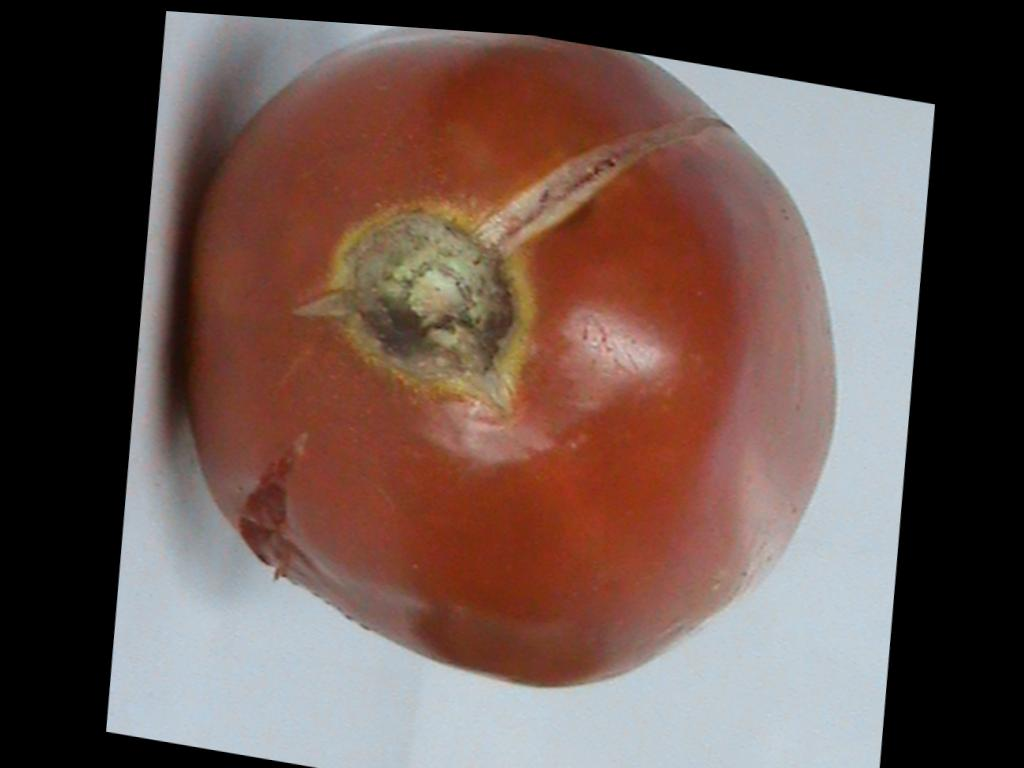bruise_discoloration: (416, 583, 597, 689)
surface_damage: (479, 112, 732, 253), (240, 435, 306, 574)
tomato: (190, 27, 835, 685)
